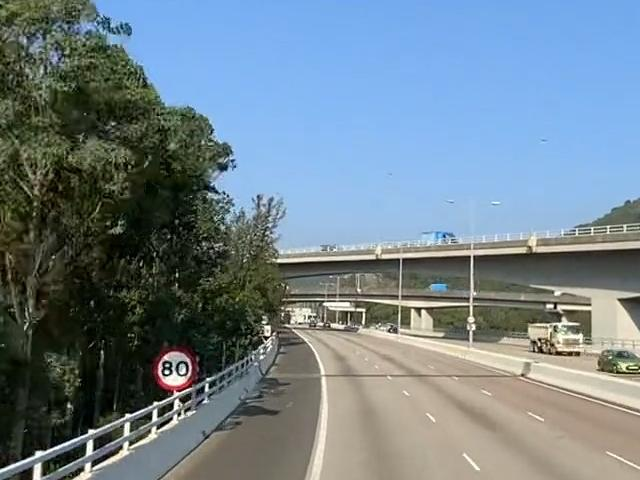car: (599, 343, 640, 378)
